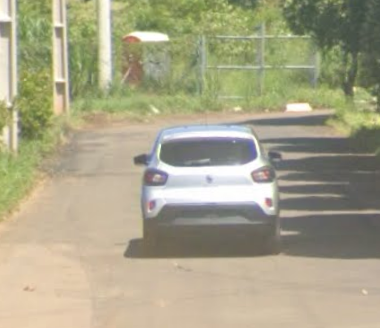car: (131, 109, 294, 256)
